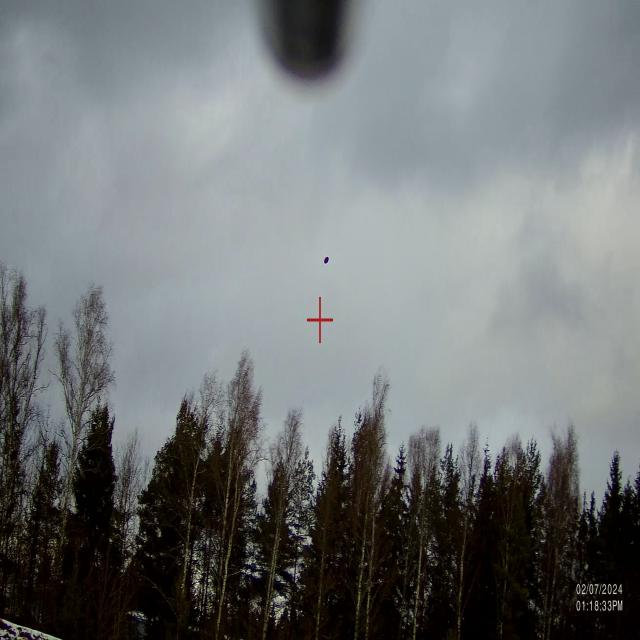entire: (320, 250, 333, 267)
